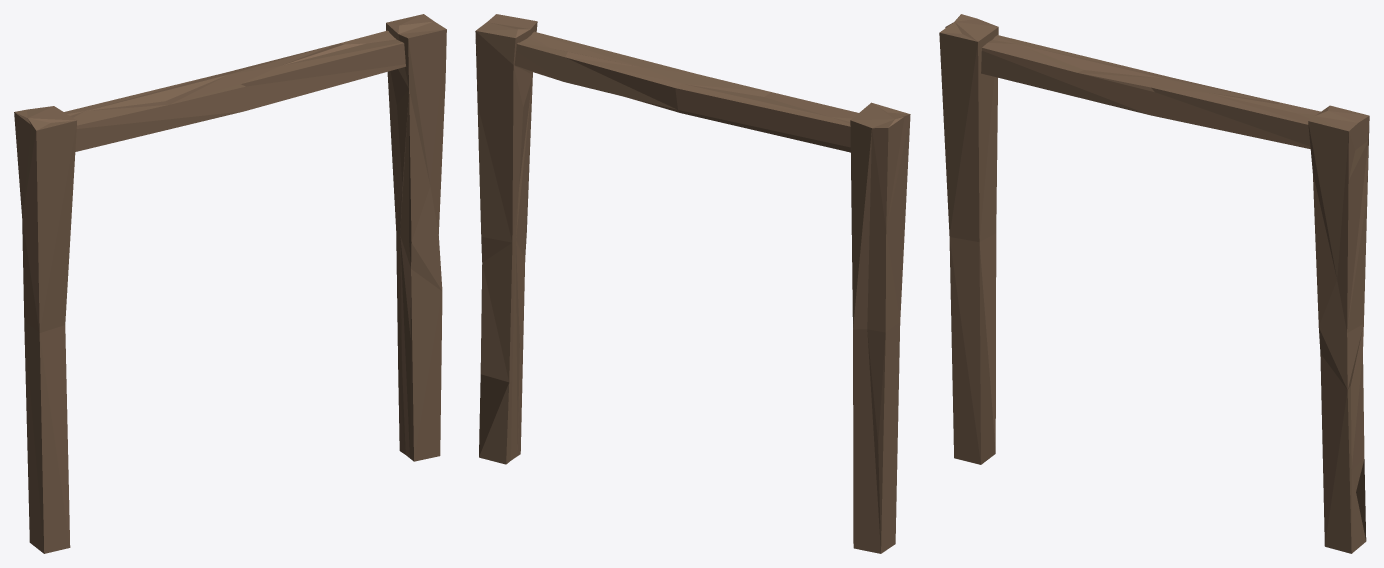
Rendered from Flag Pole 3.FBX.
The picture shows the model from 3 angles, left to right: view 1: azimuth 30°, elevation 25°; view 2: azimuth 150°, elevation 25°; view 3: azimuth 330°, elevation 25°; orthographic projection.
Visible parts, largest first — view 1: Flag Pole 3; view 2: Flag Pole 3; view 3: Flag Pole 3.
Boxes of the visible parts, <box> form: Flag Pole 3: <box>14,14,446,553</box>; Flag Pole 3: <box>475,14,910,553</box>; Flag Pole 3: <box>939,14,1369,553</box>.
Size of the model in its own units: 146 by 146 by 15.28.
